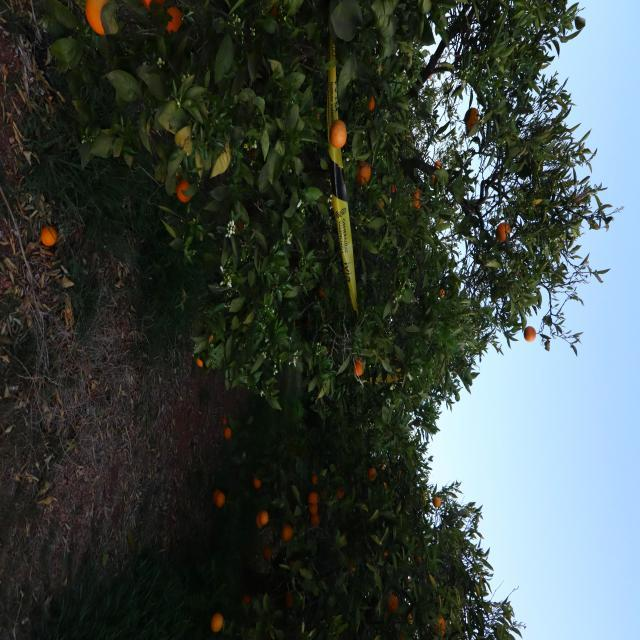Bunga: (14, 402, 24, 408), (372, 227, 382, 233), (384, 243, 391, 250), (80, 174, 88, 180), (266, 414, 274, 420), (390, 374, 397, 380), (200, 338, 208, 343), (280, 408, 288, 413), (398, 249, 406, 254), (58, 478, 65, 483), (272, 412, 280, 416), (292, 408, 298, 413), (352, 373, 358, 378), (366, 218, 373, 222), (358, 344, 367, 347), (56, 140, 62, 144), (350, 342, 356, 346), (451, 264, 457, 268), (198, 248, 204, 252), (387, 228, 393, 232), (370, 362, 374, 367), (116, 156, 125, 158), (70, 177, 76, 180), (324, 374, 330, 377), (230, 404, 234, 408), (32, 384, 36, 388), (158, 290, 162, 294), (361, 347, 365, 351), (233, 412, 238, 415), (75, 454, 80, 457), (126, 179, 131, 182), (115, 180, 120, 183), (139, 75, 144, 78), (281, 417, 286, 420), (391, 256, 396, 259), (220, 406, 226, 408), (221, 408, 225, 411), (234, 409, 238, 412), (208, 336, 212, 339), (240, 349, 244, 352), (169, 348, 173, 351), (144, 383, 148, 386), (60, 476, 66, 478), (64, 478, 68, 481), (28, 385, 32, 388), (76, 173, 80, 176), (66, 165, 70, 168), (124, 156, 127, 160), (112, 188, 115, 192), (274, 410, 280, 412), (338, 372, 342, 375), (342, 319, 347, 321), (224, 394, 229, 396), (102, 460, 105, 463), (119, 158, 122, 161), (122, 187, 125, 190), (310, 365, 313, 368), (346, 319, 349, 322), (352, 321, 355, 324), (337, 348, 340, 351), (290, 359, 293, 362), (230, 408, 234, 410), (224, 410, 228, 412), (233, 348, 237, 350), (240, 352, 244, 354), (246, 365, 250, 367), (232, 352, 236, 354), (140, 384, 144, 386), (18, 400, 22, 402), (31, 404, 35, 406), (116, 160, 120, 162), (122, 186, 126, 188), (26, 89, 30, 91), (122, 78, 126, 80), (342, 320, 346, 322), (258, 398, 262, 400), (225, 404, 228, 406), (227, 408, 230, 410), (224, 407, 227, 409), (230, 410, 233, 412), (214, 335, 217, 337), (237, 350, 240, 352), (145, 386, 148, 388), (75, 185, 78, 187), (66, 120, 69, 122), (365, 364, 368, 366), (356, 342, 358, 345), (451, 268, 454, 270), (304, 374, 307, 376), (228, 406, 230, 408), (228, 411, 230, 413), (228, 412, 230, 414), (28, 388, 30, 390), (22, 90, 24, 92), (423, 266, 425, 268), (422, 268, 424, 270), (426, 278, 428, 280), (308, 370, 310, 372), (274, 364, 276, 366), (273, 374, 275, 376), (242, 394, 244, 396), (248, 392, 250, 394), (232, 351, 235, 352), (255, 392, 258, 393), (427, 269, 429, 270), (424, 268, 426, 268), (427, 268, 429, 268)
Jeruk Sudah Matang: (0, 532, 36, 555), (6, 458, 34, 475), (120, 294, 148, 310), (161, 270, 185, 286), (108, 161, 130, 176), (181, 448, 203, 462), (0, 474, 12, 498), (223, 130, 243, 144), (227, 584, 246, 598), (616, 194, 637, 206), (614, 416, 632, 429), (357, 276, 376, 287), (188, 219, 210, 228), (326, 104, 342, 116), (594, 242, 612, 252), (526, 347, 542, 357), (510, 371, 526, 380), (493, 415, 507, 425), (495, 198, 508, 208), (493, 322, 506, 332), (516, 320, 528, 330), (95, 264, 112, 271), (512, 377, 529, 384), (468, 263, 481, 272), (556, 218, 569, 226), (490, 418, 503, 426), (504, 322, 515, 331), (428, 408, 439, 416), (594, 347, 606, 354), (478, 378, 488, 386), (358, 436, 368, 444), (327, 426, 340, 432), (548, 369, 559, 376), (200, 256, 209, 264), (560, 346, 572, 352), (596, 390, 606, 397), (488, 296, 498, 303), (161, 199, 170, 206), (474, 322, 484, 328), (175, 204, 184, 210), (490, 314, 499, 320), (287, 316, 297, 321), (551, 252, 559, 258), (633, 236, 640, 242), (184, 244, 192, 249), (288, 196, 298, 200), (614, 228, 624, 232), (482, 252, 490, 256), (464, 254, 470, 258), (418, 414, 424, 418), (579, 228, 583, 232), (460, 255, 462, 258)
